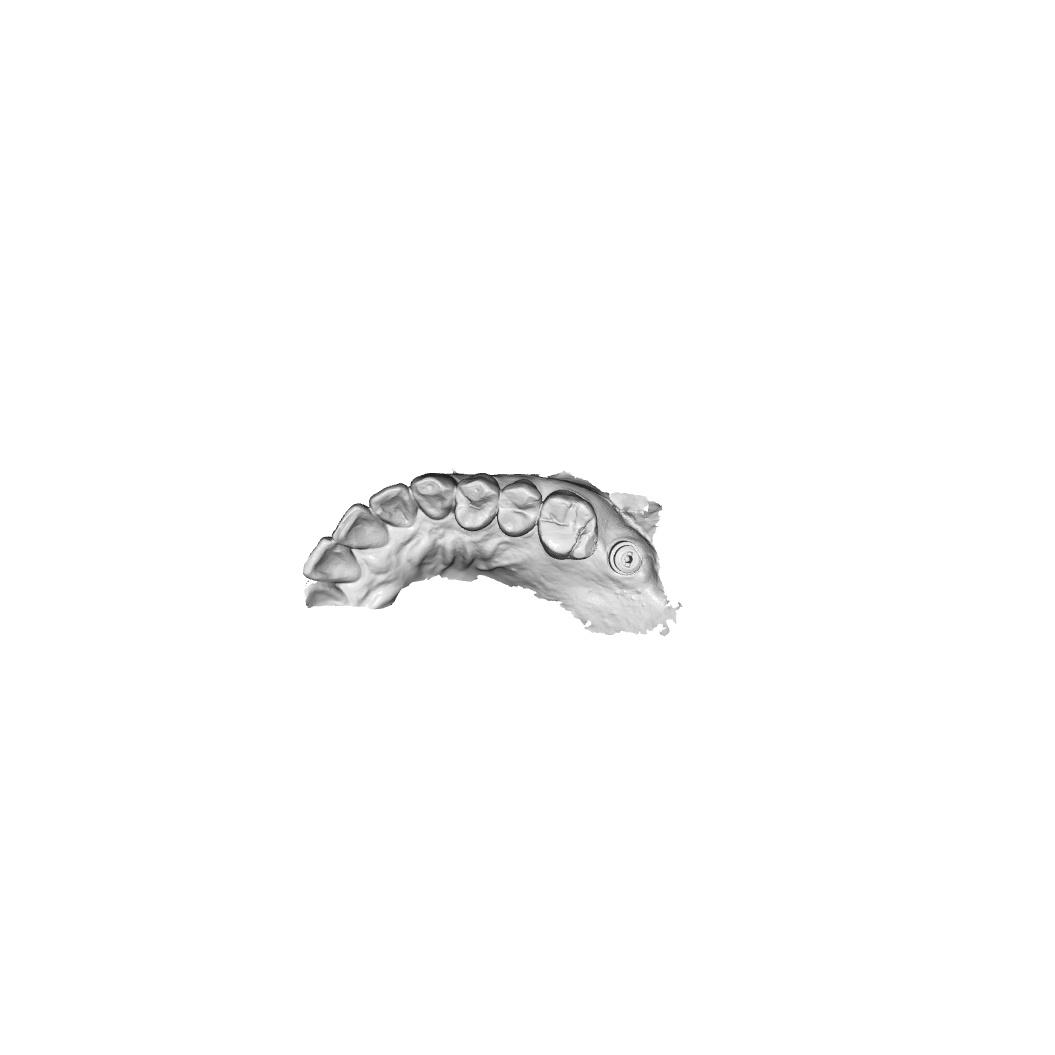canine: (409, 472, 457, 521)
implant_minus: (607, 539, 644, 577)
incisor: (302, 536, 362, 585), (332, 503, 390, 550), (369, 482, 419, 529)
molar: (537, 488, 599, 561)
premolar: (496, 479, 543, 538), (455, 472, 500, 532)
